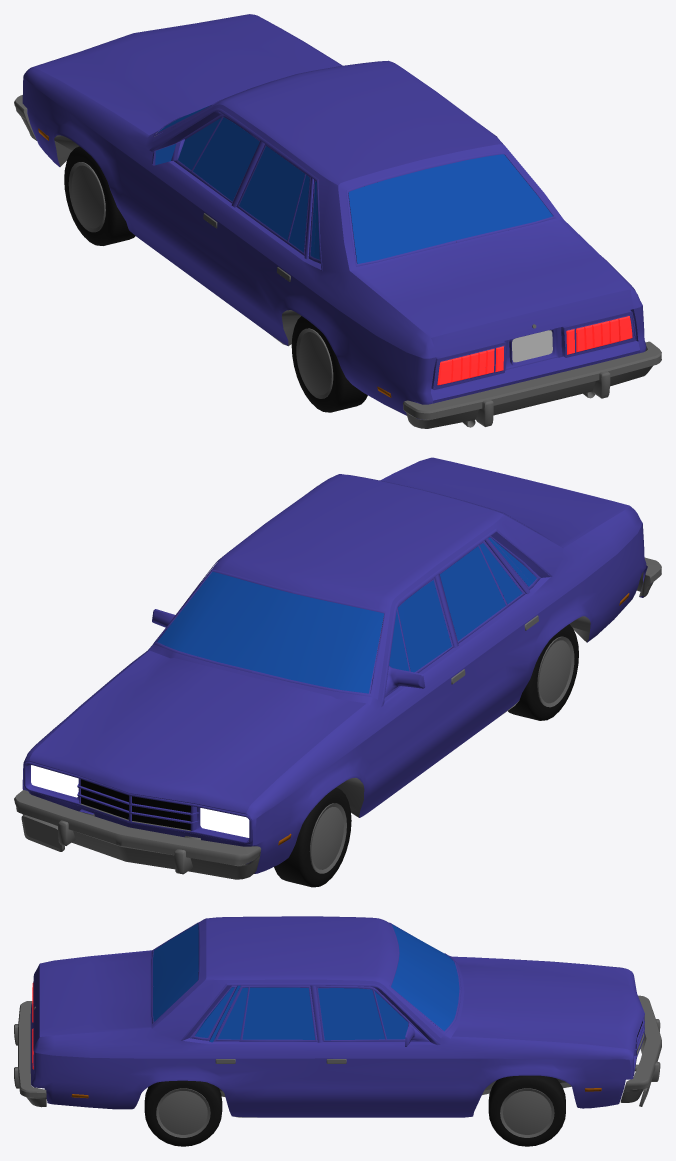
The model's file is MainCar.gltf.
3 renders of one model, top to bottom at view 1: azimuth 30°, elevation 25°; view 2: azimuth 150°, elevation 25°; view 3: azimuth 270°, elevation 25°, orthographic. The views are drawn at different scales.
Visible parts, largest first — view 1: Main, wheel 3, wheel 1; view 2: Main, wheel 3, wheel 1; view 3: Main, wheel 2, wheel 4.
Boxes of the visible parts, x1=… form: Main: x1=14, y1=14, x2=661, y2=428; wheel 3: x1=64, y1=146, x2=135, y2=245; wheel 1: x1=291, y1=316, x2=367, y2=412; Main: x1=14, y1=457, x2=661, y2=879; wheel 3: x1=274, y1=787, x2=351, y2=887; wheel 1: x1=508, y1=624, x2=578, y2=720; Main: x1=14, y1=916, x2=661, y2=1117; wheel 2: x1=488, y1=1075, x2=565, y2=1146; wheel 4: x1=144, y1=1080, x2=222, y2=1146.
Size of the model in its own units: 7.14 by 5.32 by 19.49.
